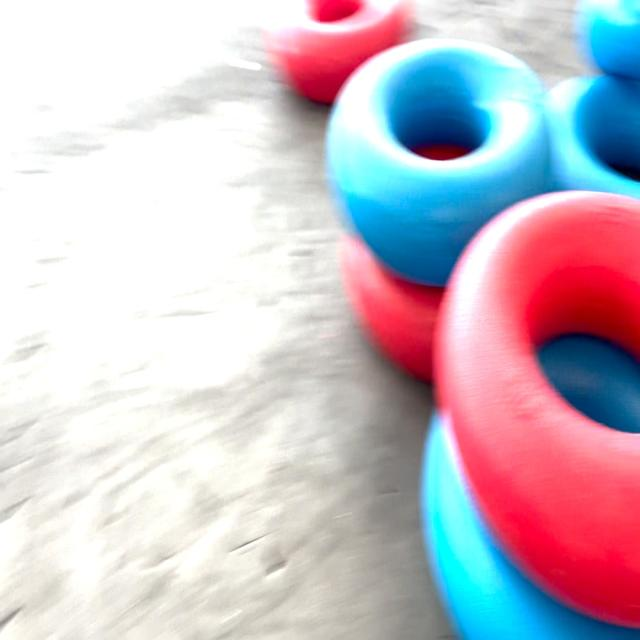Blue-Ring: (326, 40, 550, 287), (421, 413, 640, 640), (545, 76, 640, 198), (576, 0, 640, 79)
Red-Ring: (434, 191, 640, 628), (338, 236, 444, 382), (262, 0, 412, 103)
